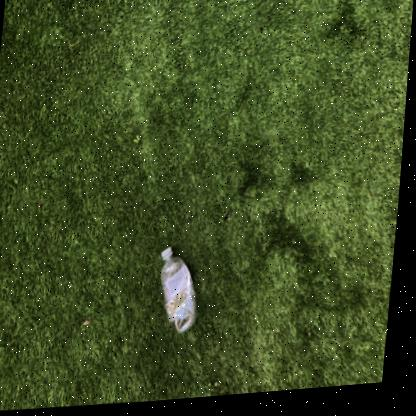Plastic: (164, 250, 200, 337)
